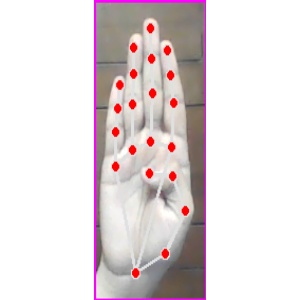B: (94, 2, 206, 300)
